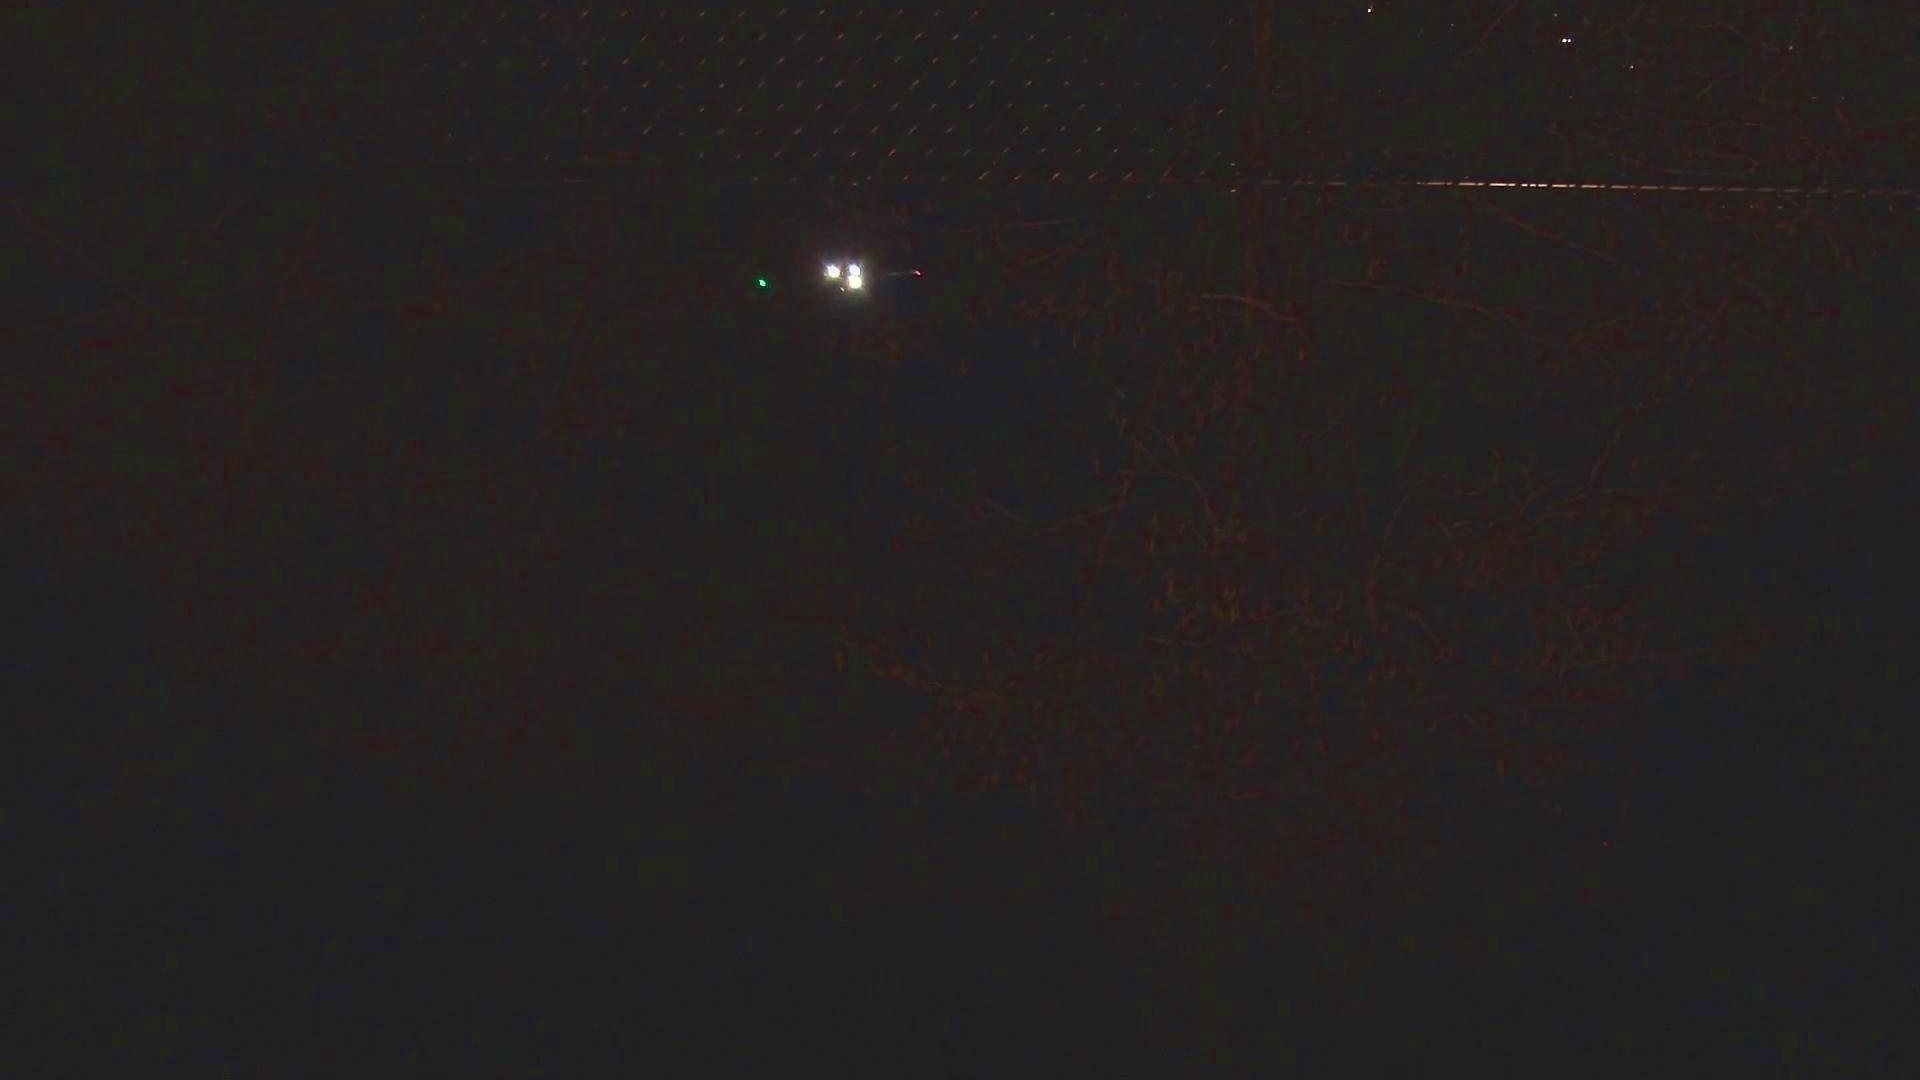Plane: (746, 247, 959, 302)
